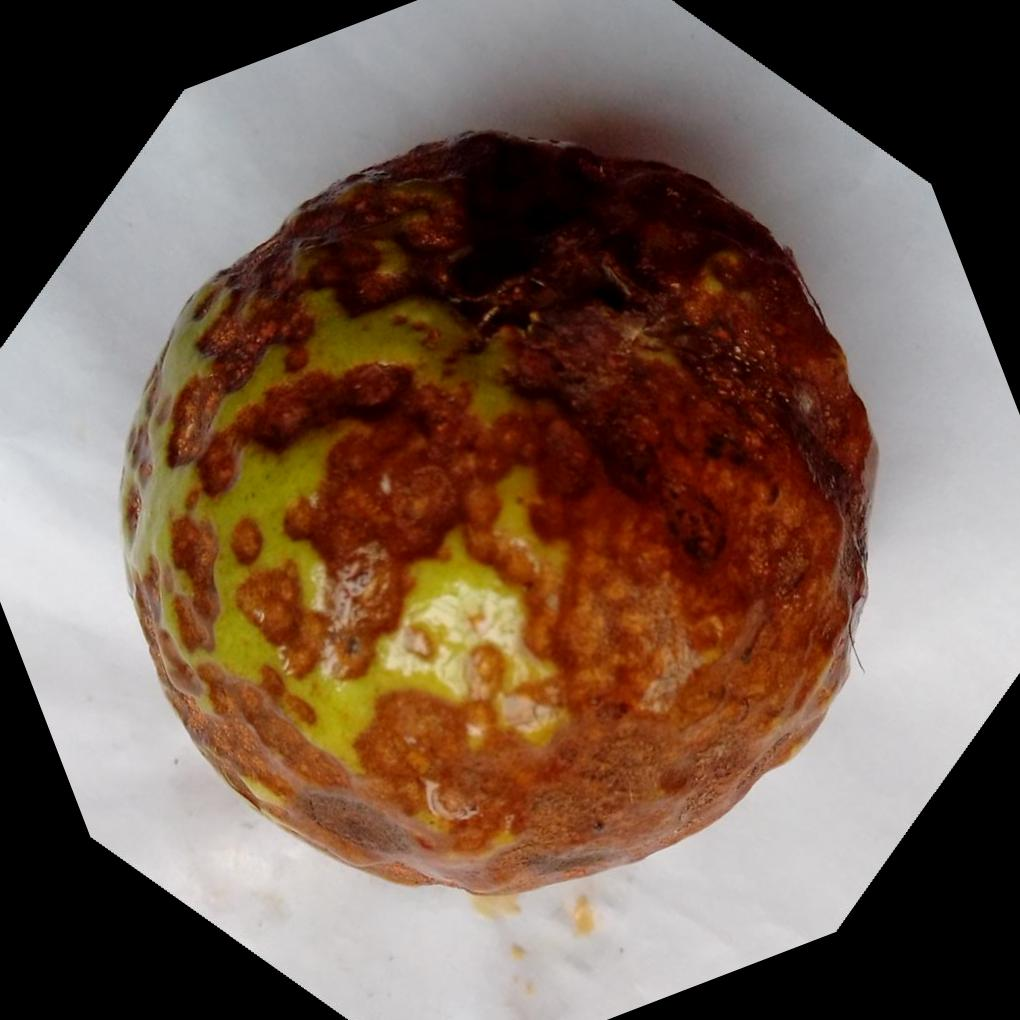FreshOrange: (112, 128, 876, 899)
